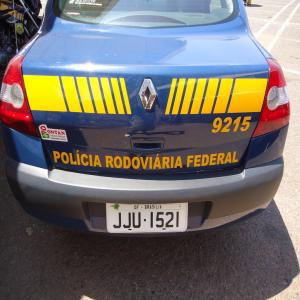Vehicle-registration-plate: (106, 204, 189, 236)
